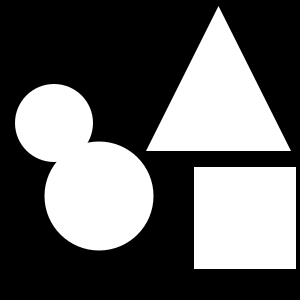circle: (194, 167, 296, 269)
rectangle: (44, 142, 154, 250), (15, 84, 93, 162)
triangle: (146, 6, 291, 151)
